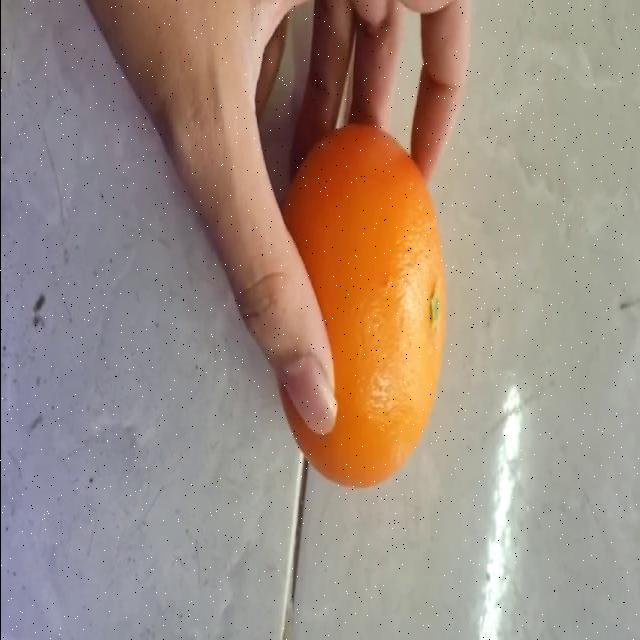Orange: (278, 123, 448, 489)
